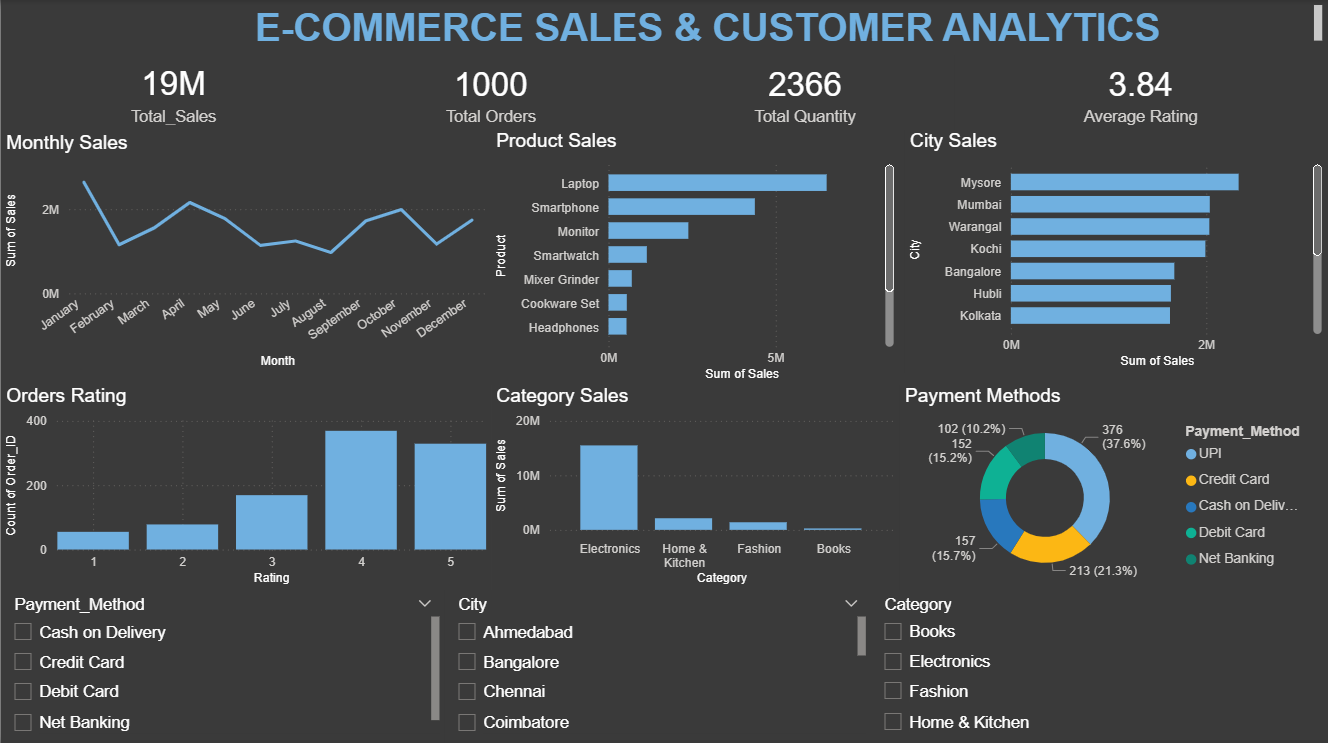

Layout of this report page (visuals, bound fields, positions):
{"tool":"powerbi","page":{"name":"Page 1","canvas":[1280,720],"ordinal":0},"visuals":[{"type":"card","fields":{"Values":["ecommerce_sales_cleaned.Total Orders"]},"box":[333.4,53.5,279.9,72.7],"z":0},{"type":"card","fields":{"Values":["ecommerce_sales_cleaned.Total Quantity"]},"box":[623,53.5,307.4,72.7],"z":1000},{"type":"card","fields":{"Values":["ecommerce_sales_cleaned.Total_Sales"]},"box":[0,53.5,333.4,72],"z":2000},{"type":"card","fields":{"Values":["ecommerce_sales_cleaned.Average Rating"]},"box":[920.8,53.5,359.5,72.7],"z":3000},{"type":"lineChart","title":"Monthly Sales","fields":{"Category":["ecommerce_sales_cleaned.Order_Date.Variation.Date Hierarchy.Month"],"Y":["Sum(ecommerce_sales_cleaned.Sales)"]},"box":[0,126.2,473.4,233.3],"z":4000},{"type":"barChart","title":"Product Sales","fields":{"Category":["ecommerce_sales_cleaned.Product"],"Y":["Sum(ecommerce_sales_cleaned.Sales)"]},"box":[473.4,124.9,393.8,247],"z":5000},{"type":"columnChart","title":"Category Sales","fields":{"Category":["ecommerce_sales_cleaned.Category"],"Y":["Sum(ecommerce_sales_cleaned.Sales)"]},"box":[473.4,371.9,393.8,197.6],"z":6000},{"type":"barChart","title":"City Sales","fields":{"Category":["ecommerce_sales_cleaned.City"],"Y":["Sum(ecommerce_sales_cleaned.Sales)"]},"box":[872.7,124.9,407.5,234.6],"z":7000},{"type":"columnChart","fields":{"Category":["ecommerce_sales_cleaned.Rating"],"Y":["CountNonNull(ecommerce_sales_cleaned.Order_ID)"]},"box":[0,371.9,473.4,197.6],"z":8000},{"type":"donutChart","title":"Payment Methods","fields":{"Category":["ecommerce_sales_cleaned.Payment_Method"],"Y":["CountNonNull(ecommerce_sales_cleaned.Order_ID)"]},"box":[867.2,371.9,407.5,197.6],"z":9000},{"type":"slicer","fields":{"Values":["ecommerce_sales_cleaned.Category"]},"box":[839.8,569.5,440.5,150.9],"z":11000},{"type":"slicer","fields":{"Values":["ecommerce_sales_cleaned.City"]},"box":[428.1,569.5,411.7,150.9],"z":12000},{"type":"slicer","fields":{"Values":["ecommerce_sales_cleaned.Payment_Method"]},"box":[0,569.5,428.1,150.9],"z":13000},{"type":"textbox","box":[0,0,1280.3,48],"z":14000}]}

Visuals, with their boxes in screenshot pixels (x1, y1, x2, y2), scaled from the page's 1280x720 canvas onto the 1328x743 screenshot:
card - ecommerce_sales_cleaned.Total Orders: bbox=(346, 55, 636, 130)
card - ecommerce_sales_cleaned.Total Quantity: bbox=(646, 55, 965, 130)
card - ecommerce_sales_cleaned.Total_Sales: bbox=(0, 55, 346, 130)
card - ecommerce_sales_cleaned.Average Rating: bbox=(955, 55, 1327, 130)
"Monthly Sales" lineChart: bbox=(0, 130, 491, 371)
"Product Sales" barChart: bbox=(491, 129, 900, 384)
"Category Sales" columnChart: bbox=(491, 384, 900, 588)
"City Sales" barChart: bbox=(905, 129, 1327, 371)
columnChart - ecommerce_sales_cleaned.Rating x CountNonNull(ecommerce_sales_cleaned.Order_ID): bbox=(0, 384, 491, 588)
"Payment Methods" donutChart: bbox=(900, 384, 1323, 588)
slicer - ecommerce_sales_cleaned.Category: bbox=(871, 588, 1327, 742)
slicer - ecommerce_sales_cleaned.City: bbox=(444, 588, 871, 742)
slicer - ecommerce_sales_cleaned.Payment_Method: bbox=(0, 588, 444, 742)
textbox: bbox=(0, 0, 1327, 50)
